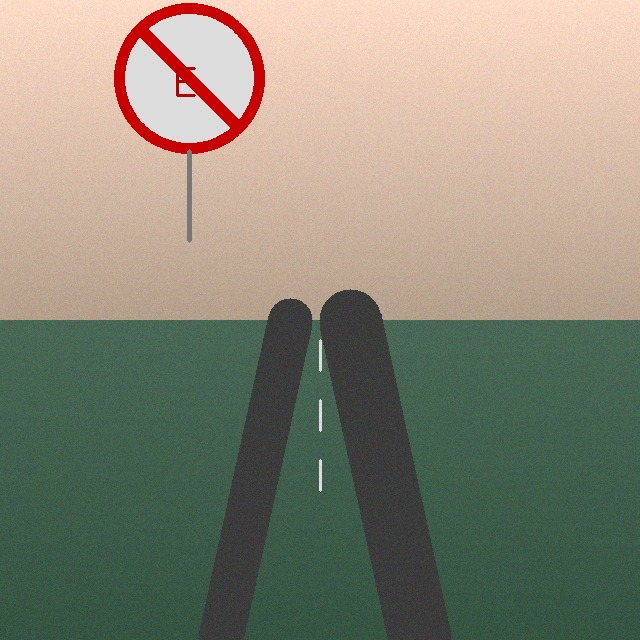no_estacionar: (117, 6, 262, 151)
